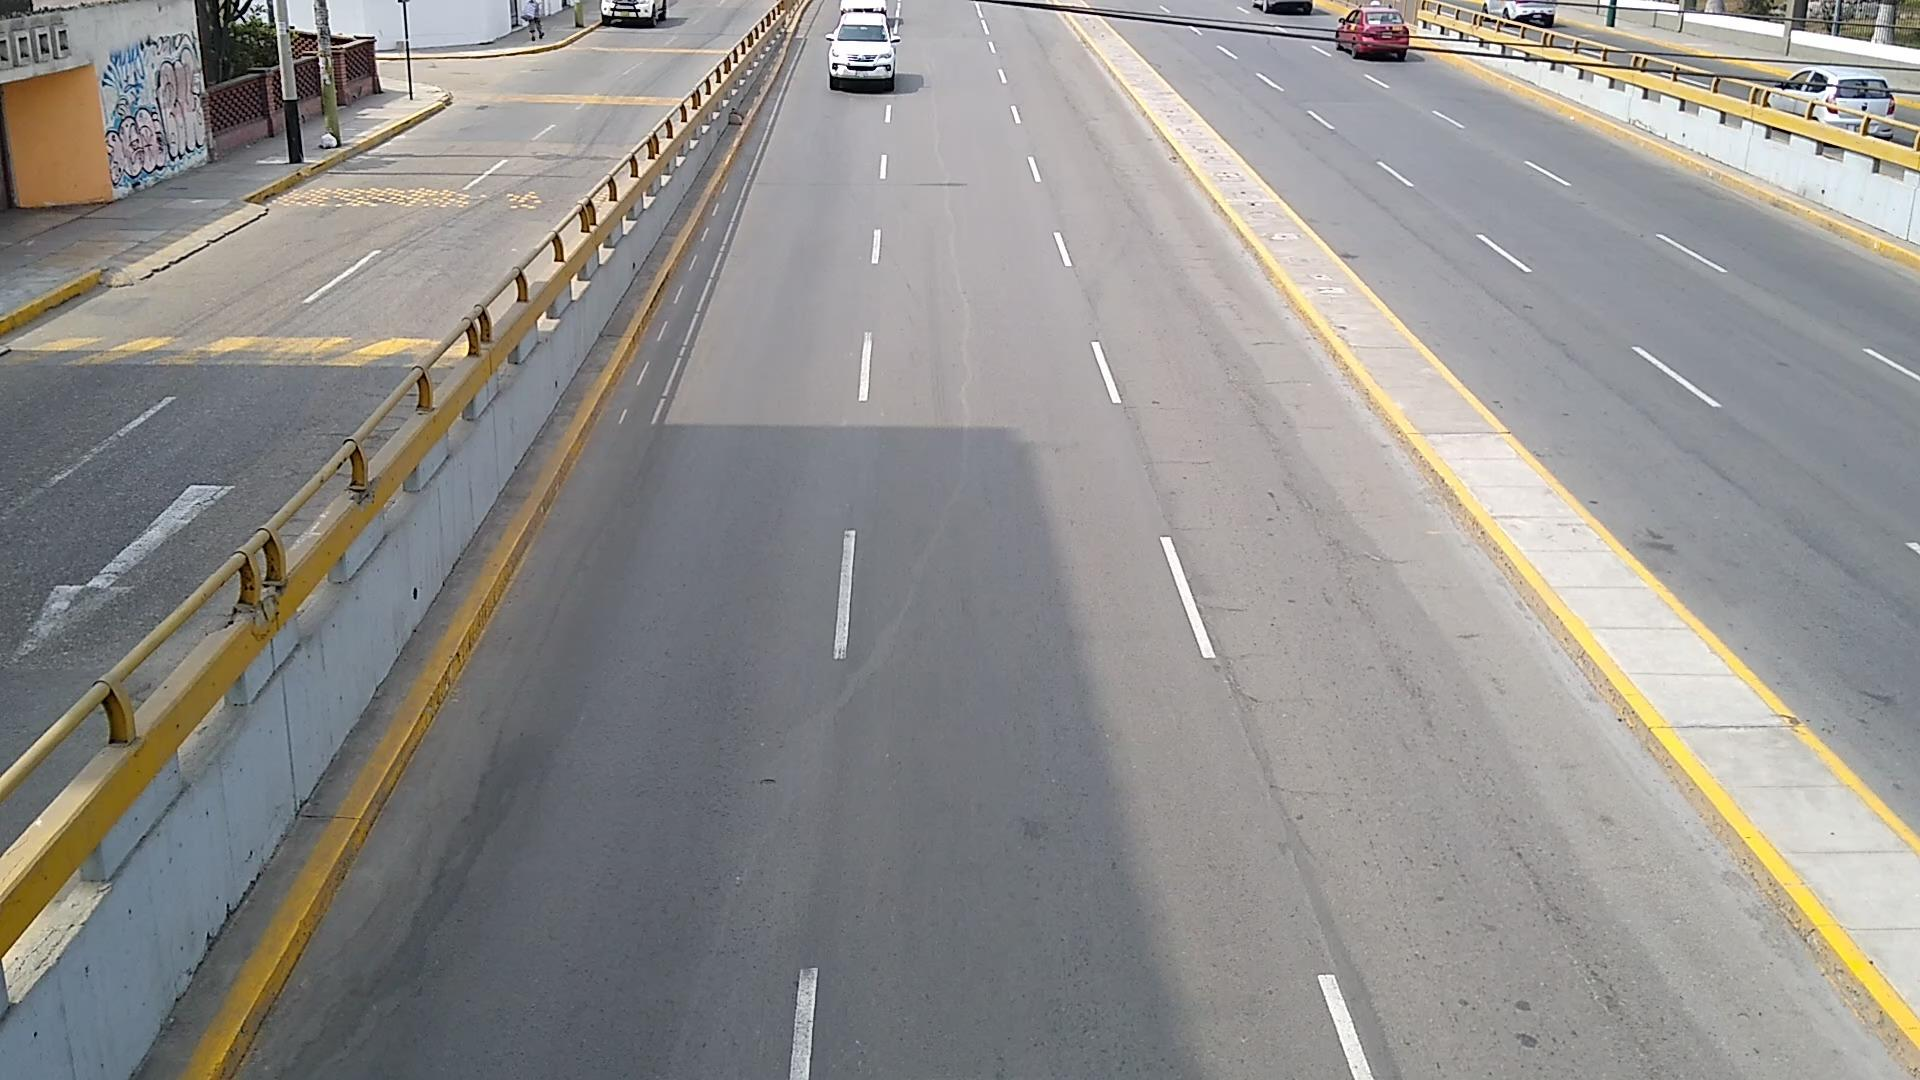car: (1766, 67, 1894, 138), (828, 0, 897, 90), (828, 15, 897, 90), (1335, 4, 1410, 61), (600, 0, 667, 26)
